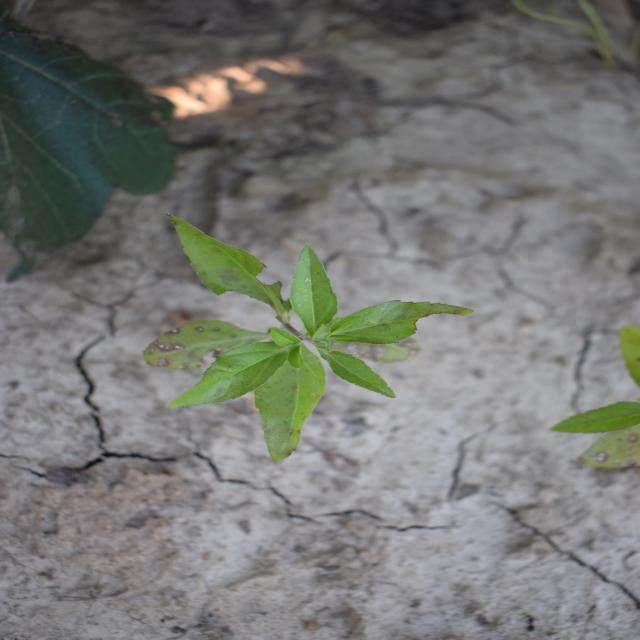Eclipta: (141, 211, 476, 464)
